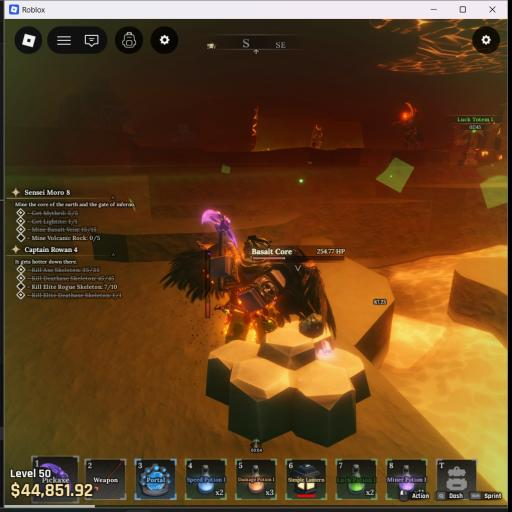player: (161, 210, 335, 343)
rock: (206, 330, 369, 446)
